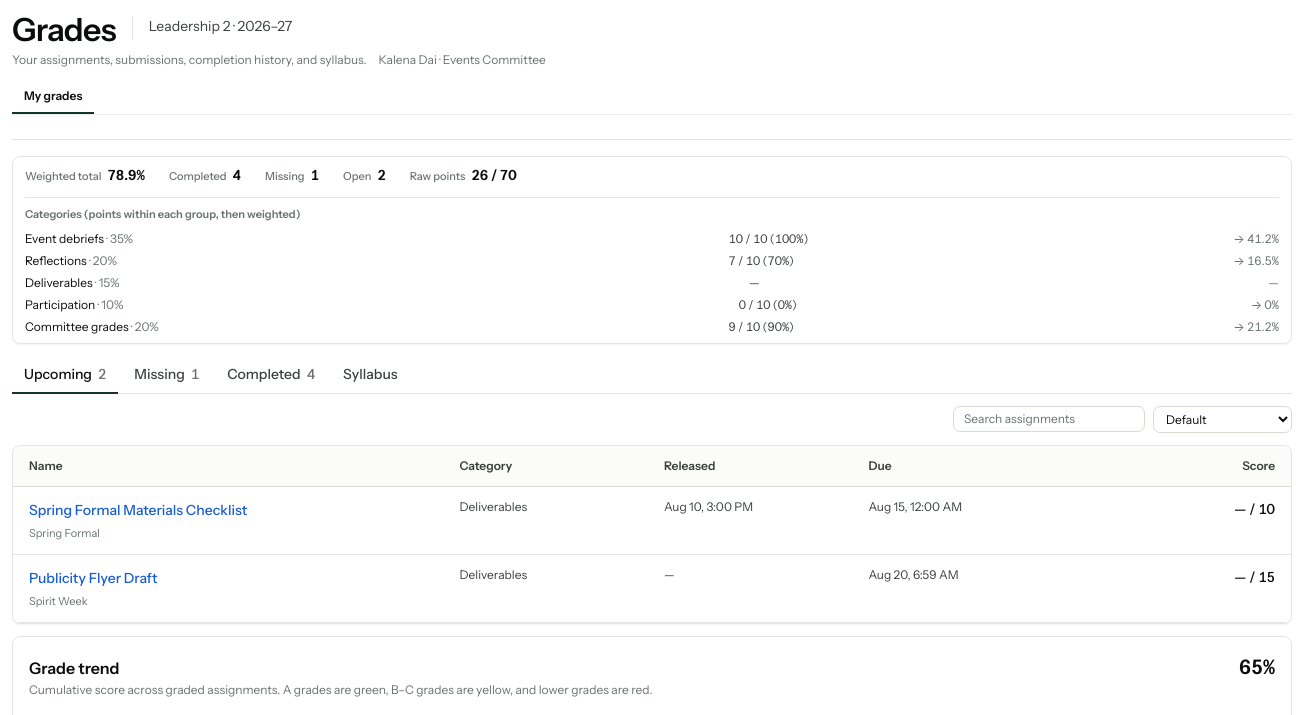
GradesPage › reveals mean, median, and a distribution bar under an assignment
Click the tab "Completed4" at coordinates (271, 374), box [215,356,327,394]
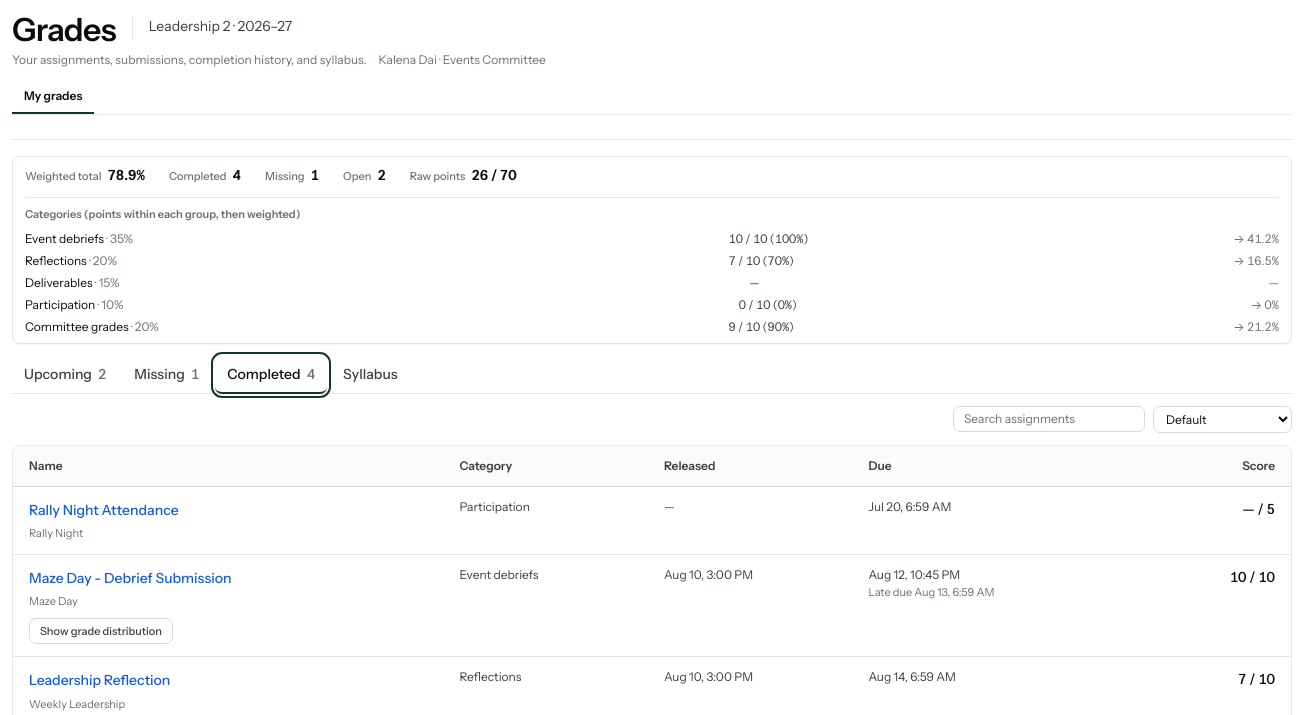
Click the 1st button "Show grade distribution" at coordinates (101, 631), box [29,618,173,644]
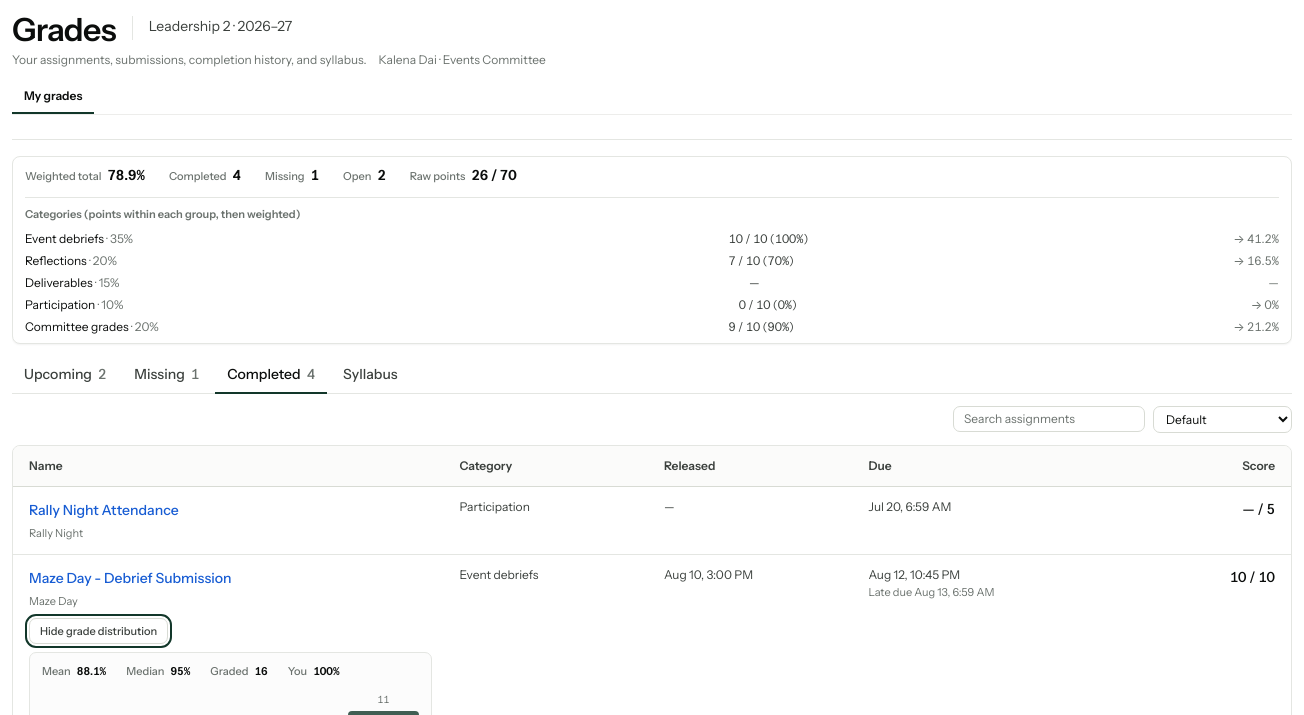
Result: the text "Mean" is shown at [42,663,71,680]
Result: the text "Median" is shown at [126,663,164,680]
Result: the button "Hide grade distribution" is shown at [29,618,168,644]
